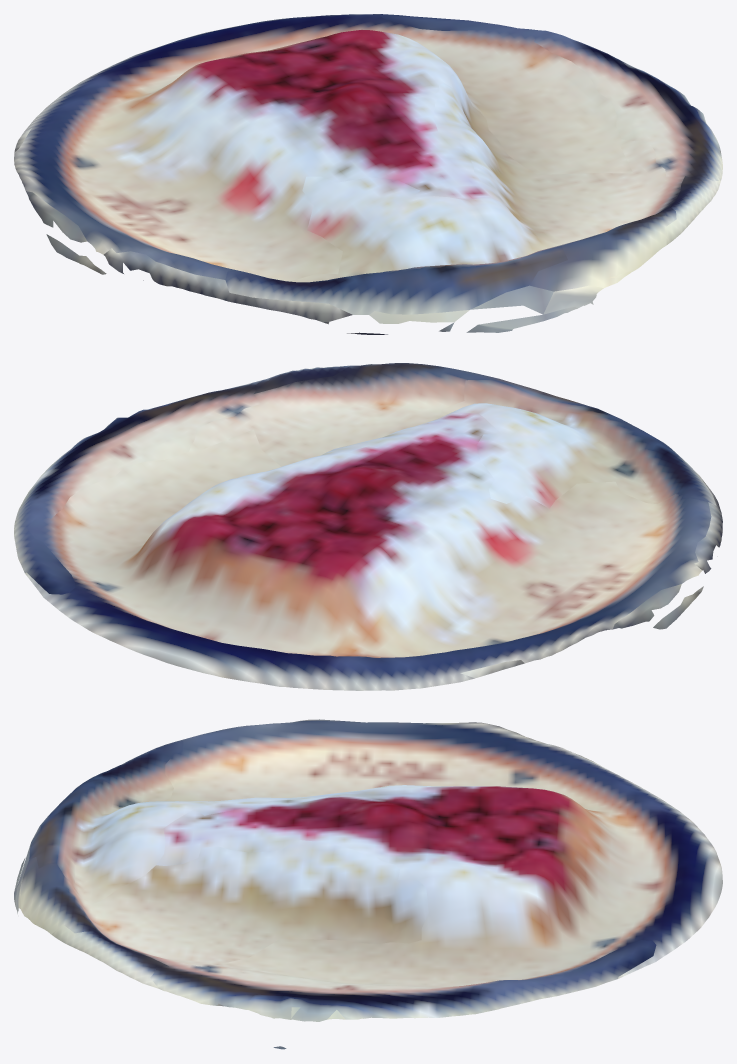
Rendered from day_229_miage_pie.glb.
3 renders of one model, top to bottom at view 1: azimuth 30°, elevation 25°; view 2: azimuth 150°, elevation 25°; view 3: azimuth 270°, elevation 25°, orthographic.
Visible parts, largest first — view 1: Object_2; view 2: Object_2; view 3: Object_2.
Part boxes in pixels (x1,y1,x2,y2): Object_2: (14,14,722,334); Object_2: (14,363,722,690); Object_2: (14,719,722,1049).
Size of the model in its own units: 0.2299 by 0.036 by 0.2354.
1 material, 1 textured.
